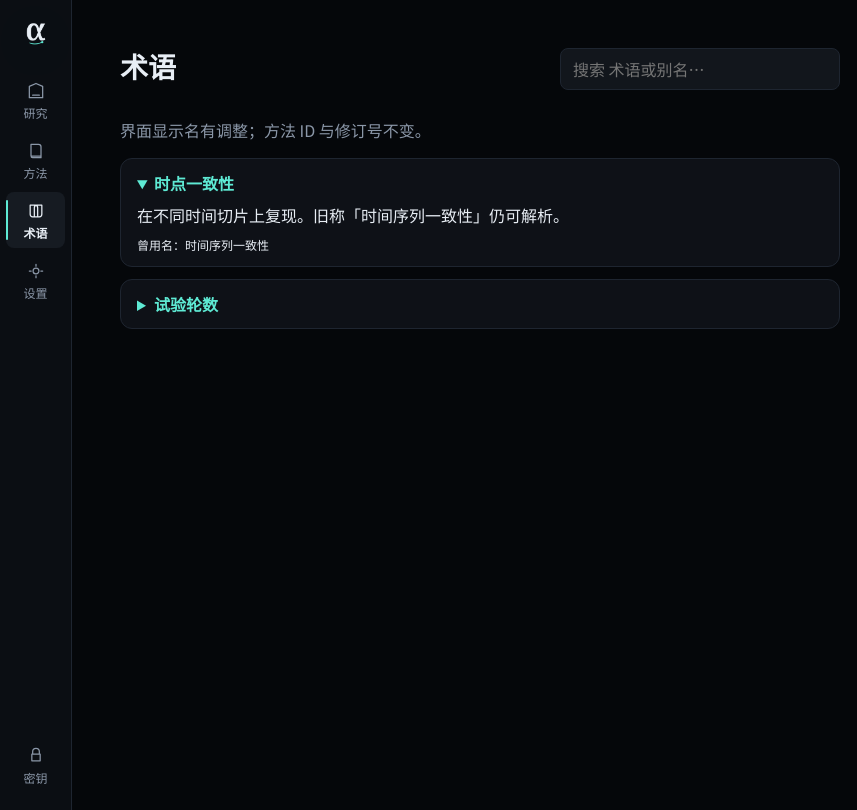
Test: glossary structure › titles the page, searches aliases, and leaves later entries collapsed
Expected: the heading "术语" is shown, top-left (120, 51), bottom-right (176, 87)
Expected: the text with test id "glossary-former" reads "曾用名：时间序列一致性", top-left (137, 236), bottom-right (269, 253)
Type "时间序列" into the search field with test id "glossary-search".
click(700, 69); type("时间序列")  # box top-left (560, 48), bottom-right (840, 90)
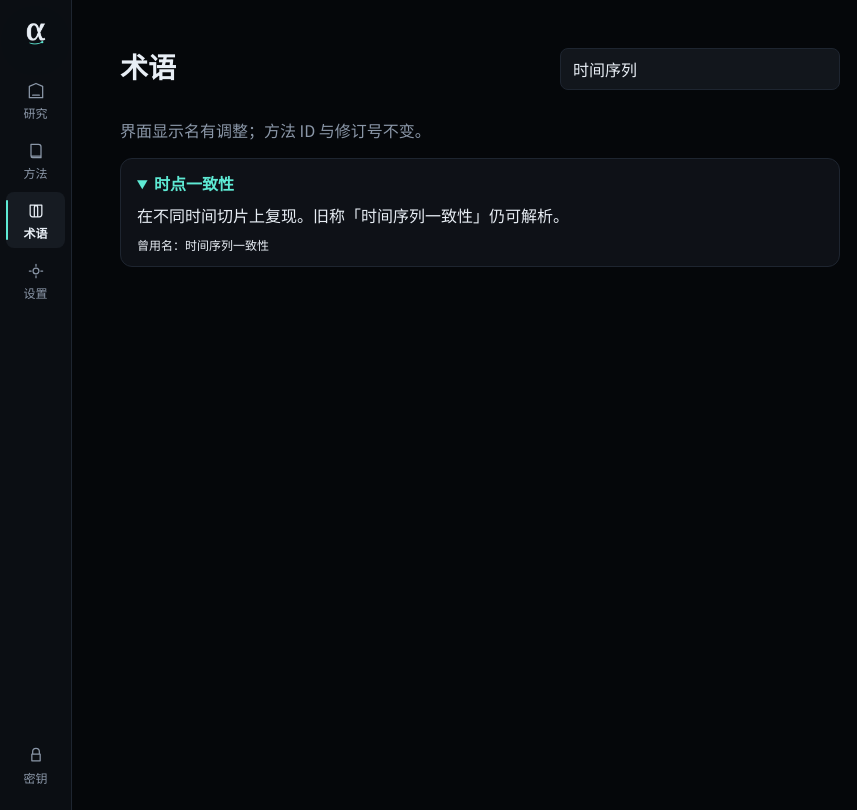
Expected: the heading "时点一致性" is shown, top-left (154, 171), bottom-right (234, 195)
Expected: the heading "试验轮数" is gone
